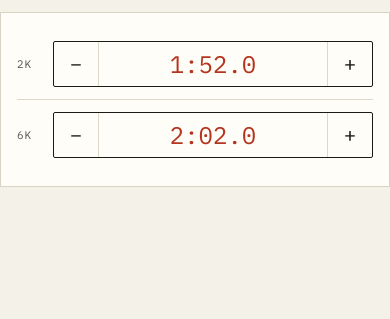
BaselineEditor › discard removes the confirm block and restores the displayed value
The image size is (390, 319).
In the field named "2k split": (213, 64) [107,42,319,86], type "151"
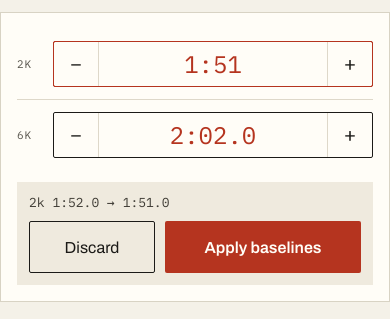
Now the text "2k 1:52.0 → 1:51.0" is shown, box [29,194,170,211]
Click the button "Discard": (92, 247) [29,221,155,273]
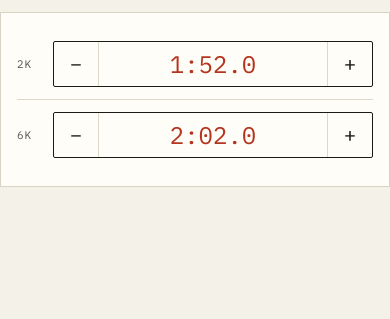
Now the text "→" is gone
Now the field named "2k split" holds "1:52.0", box [107,42,319,86]
